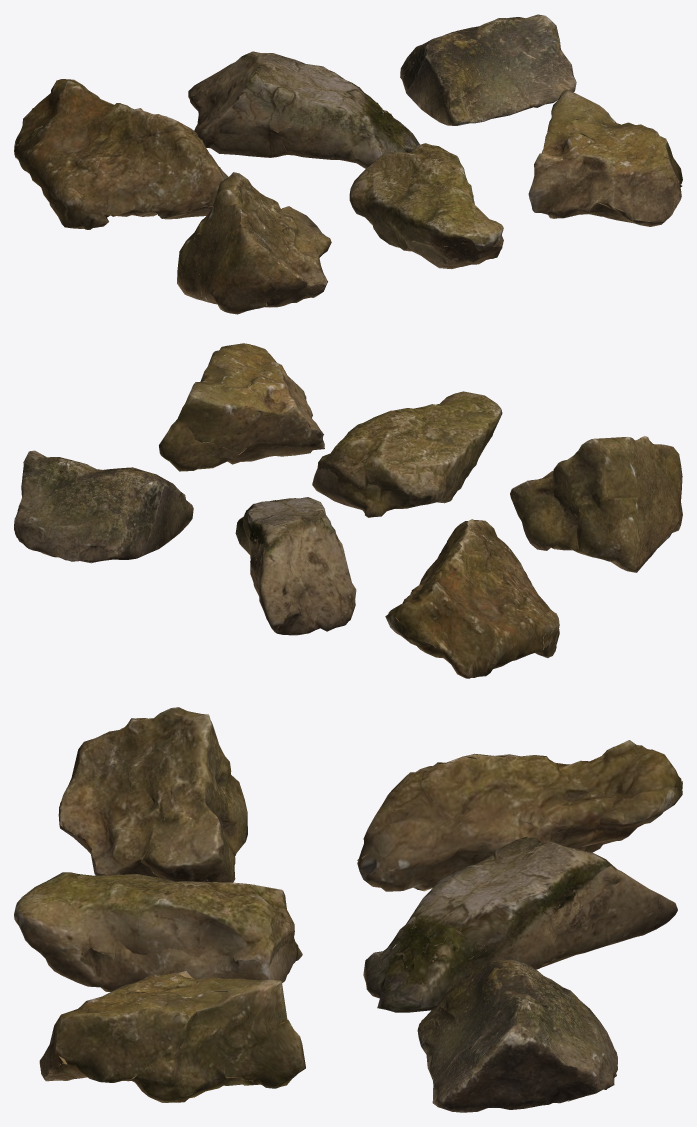
The model's file is rock_moss_set.glb.
3 renders of one model, top to bottom at view 1: azimuth 30°, elevation 25°; view 2: azimuth 150°, elevation 25°; view 3: azimuth 270°, elevation 25°, orthographic. The views are drawn at different scales.
Parts seen in each view (by area): view 1: rock_moss_set; view 2: rock_moss_set; view 3: rock_moss_set.
Boxes of the visible parts, box(x1,y1,x2,y2) form: rock_moss_set: box(14, 14, 682, 314); rock_moss_set: box(14, 343, 682, 678); rock_moss_set: box(14, 707, 682, 1112).
Bounding box in the file's own units: 8 × 1.77 × 6.94.
1 material, 1 textured.
